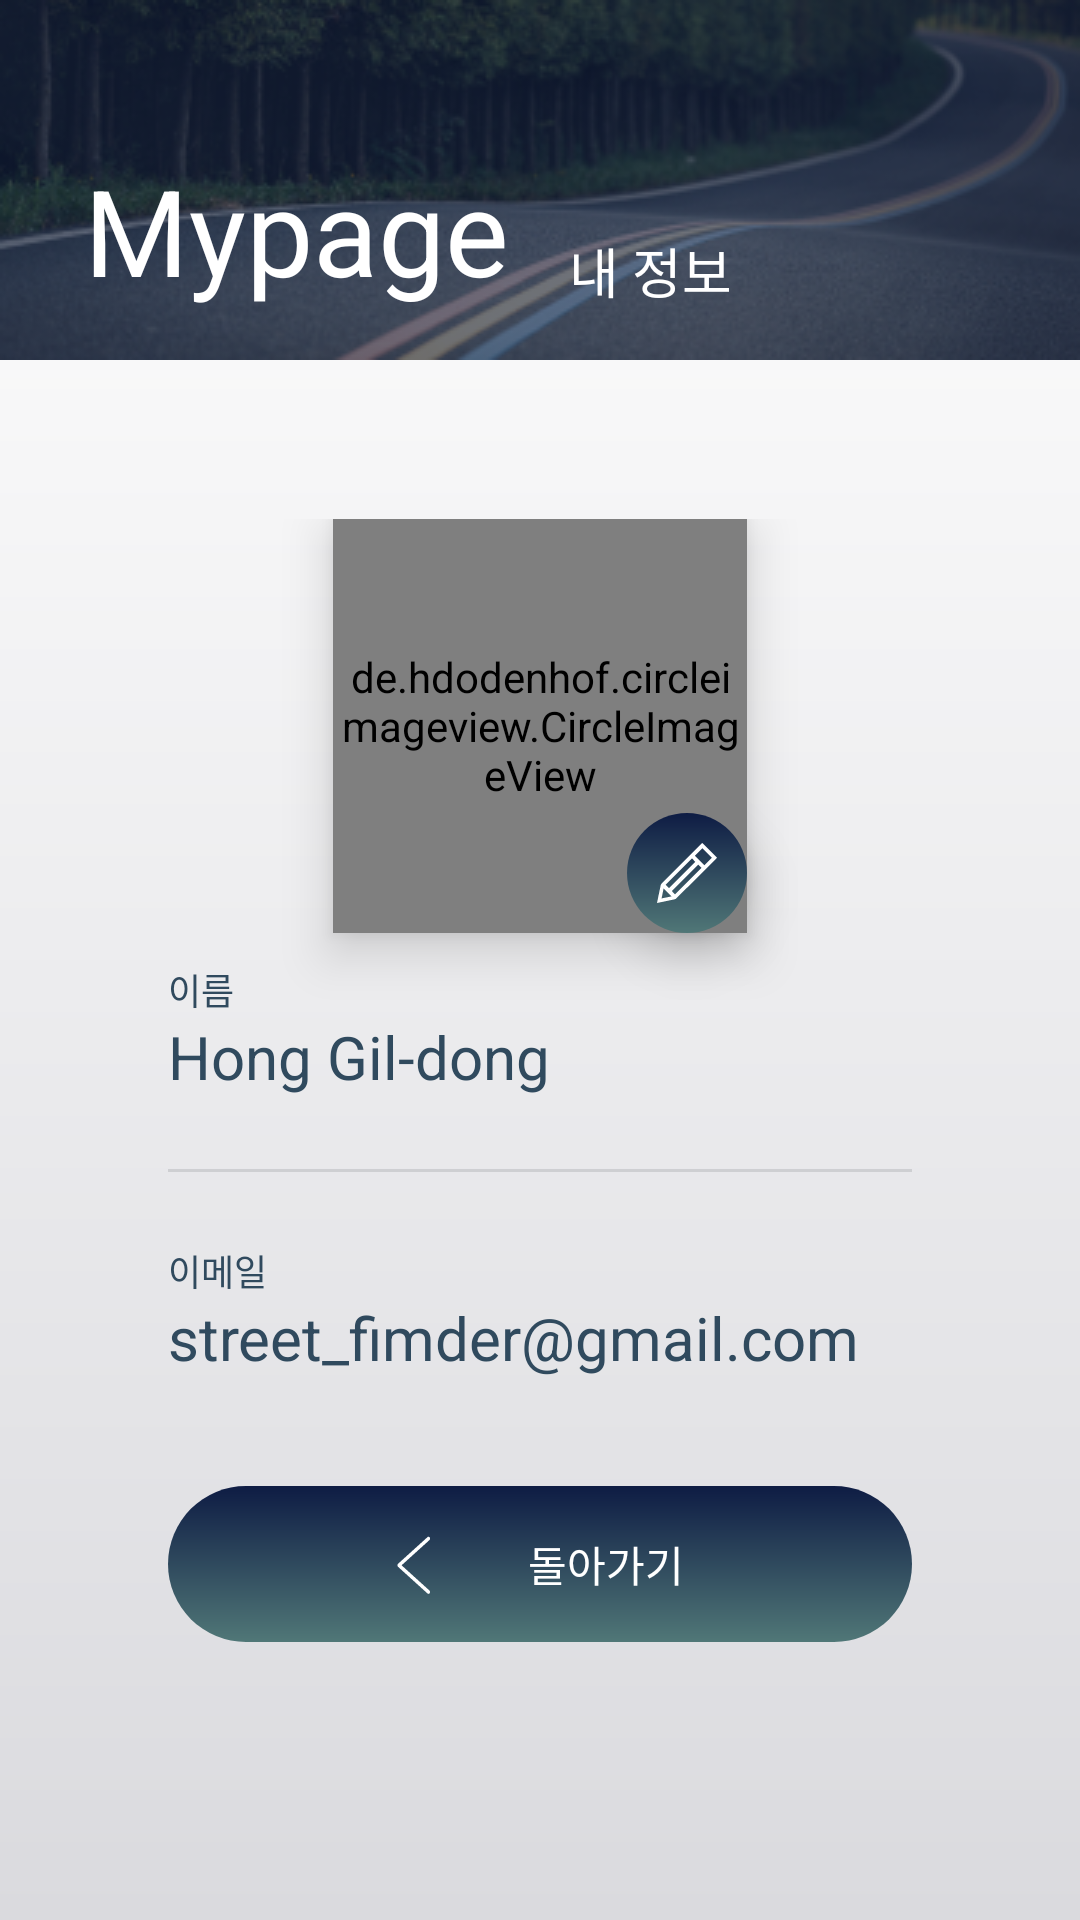

Icons on this 1080px×1920px Android screen, each with the point to tap as (x=x, y=y):
back: (x=414, y=1564)
profile modify: (x=687, y=885)
